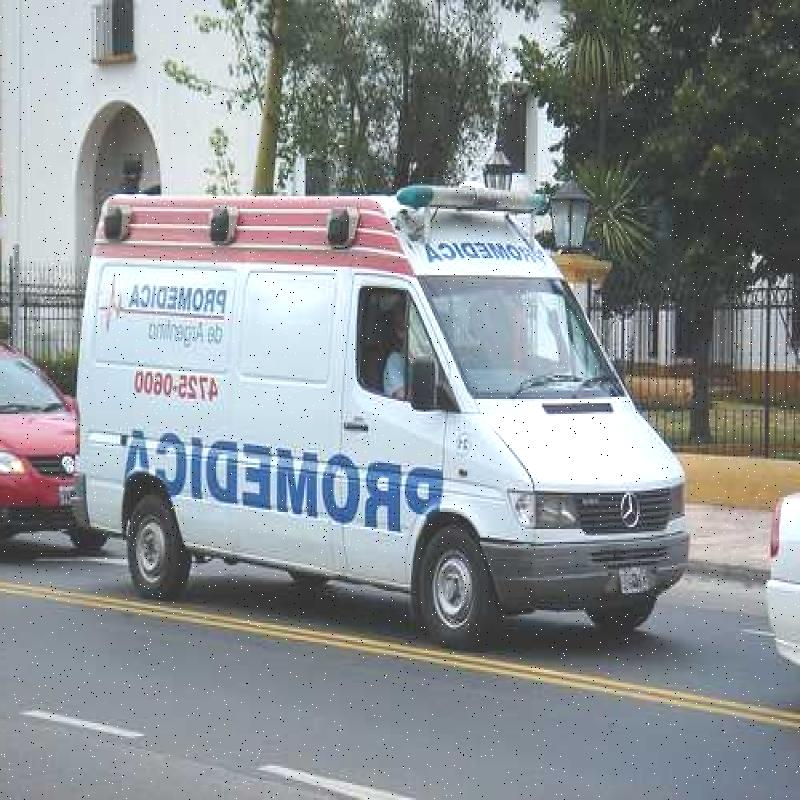AmbulanceSiren: (388, 171, 568, 247)
